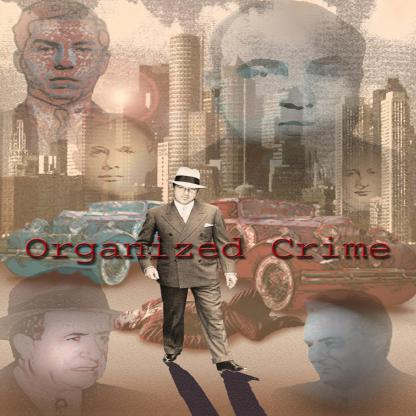face: (222, 12, 364, 147), (31, 19, 102, 99), (38, 312, 110, 389), (306, 312, 372, 382), (85, 125, 148, 193), (339, 156, 390, 208), (174, 179, 199, 205)
